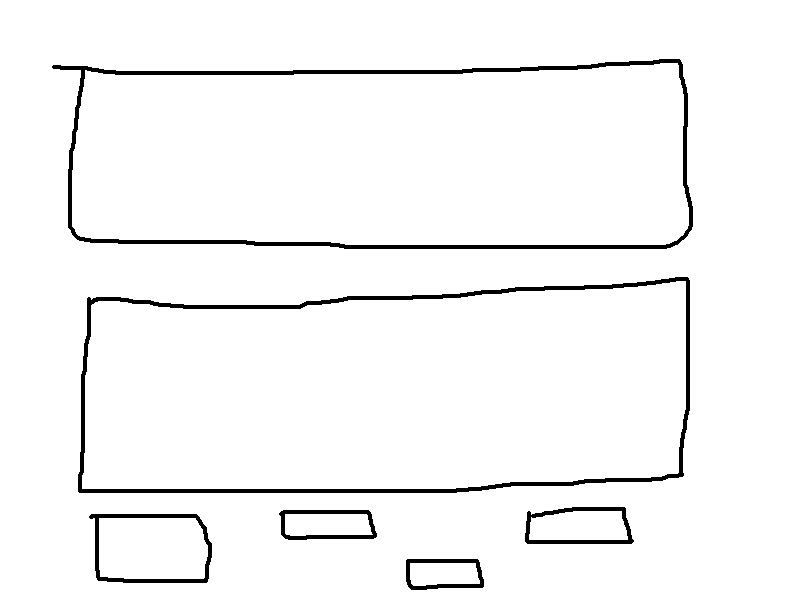rect: (75, 271, 697, 495), (47, 58, 698, 256), (86, 509, 216, 591), (521, 502, 637, 550), (274, 503, 379, 546), (400, 552, 487, 593)
